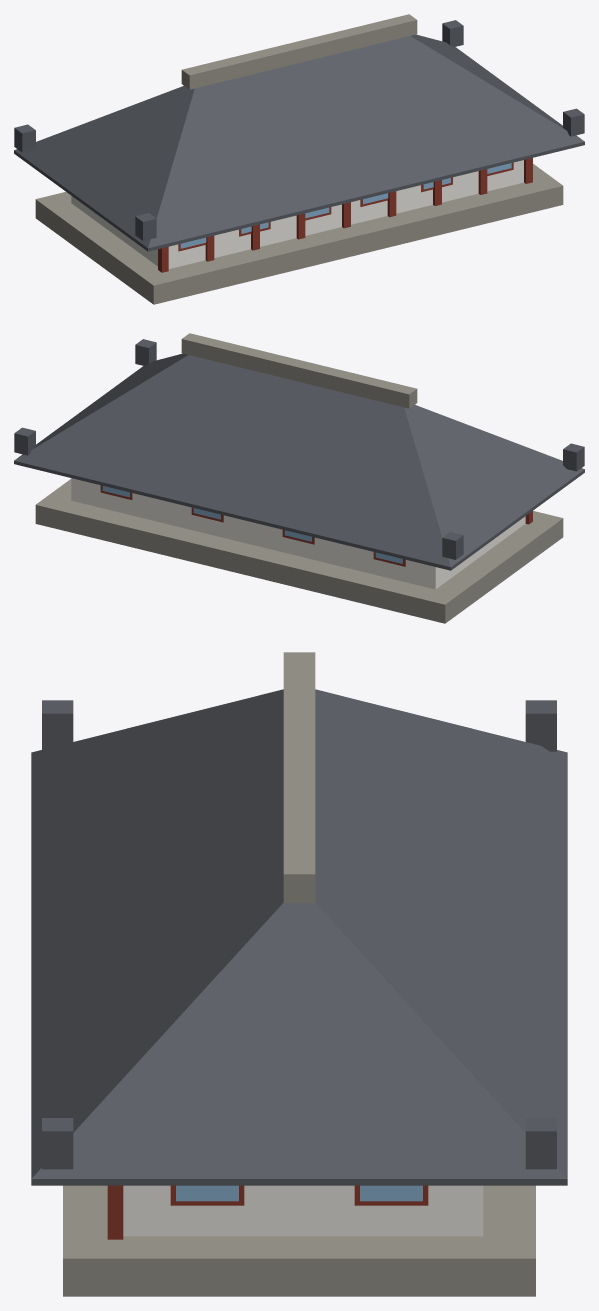
File: hanok.glb
The picture shows the model from 3 angles, top to bottom: view 1: azimuth 30°, elevation 25°; view 2: azimuth 150°, elevation 25°; view 3: azimuth 270°, elevation 25°; orthographic projection. The views are drawn at different scales.
Visible parts, largest first — view 1: hanok; view 2: hanok; view 3: hanok.
Part boxes in pixels (bbox=[...]): hanok: bbox=[14, 14, 584, 304]; hanok: bbox=[14, 333, 584, 623]; hanok: bbox=[31, 652, 567, 1296].
Bounding box in the file's own units: 19.4 × 7 × 10.2.
1 material, 1 textured.
